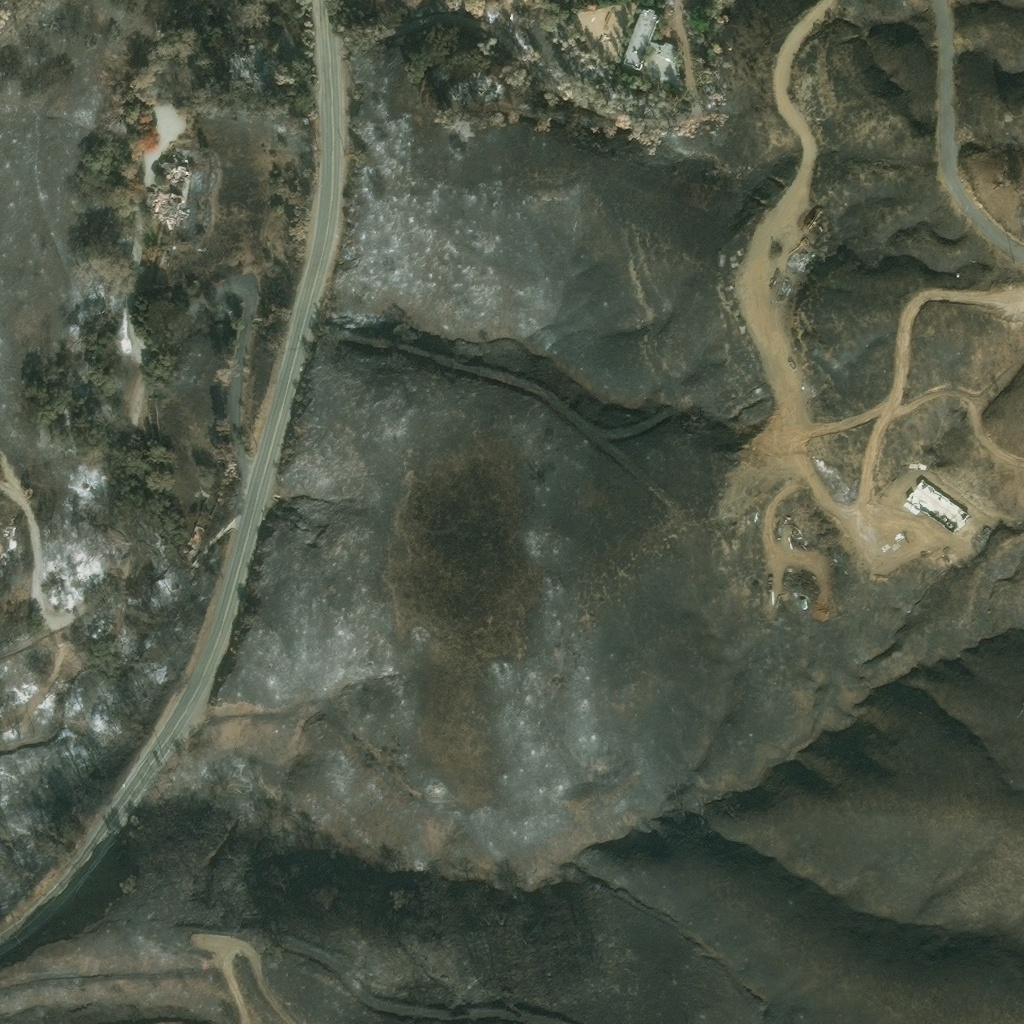0 no-damage: (620, 7, 661, 72)
1 minor-damage: (904, 477, 969, 535), (799, 597, 806, 609)
3 destroyed: (150, 188, 182, 219), (467, 72, 500, 102), (235, 53, 270, 72), (159, 161, 189, 182), (796, 251, 809, 271), (432, 65, 445, 76)
4 un-classified: (649, 40, 675, 63)
